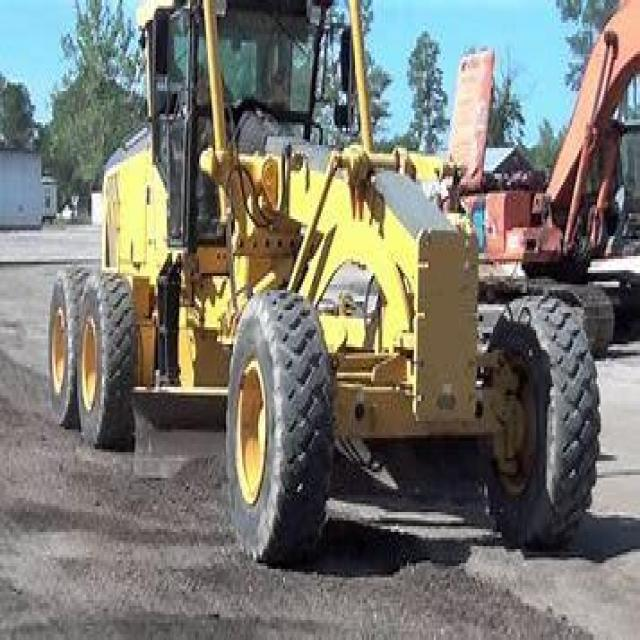Grader: (36, 0, 606, 569)
